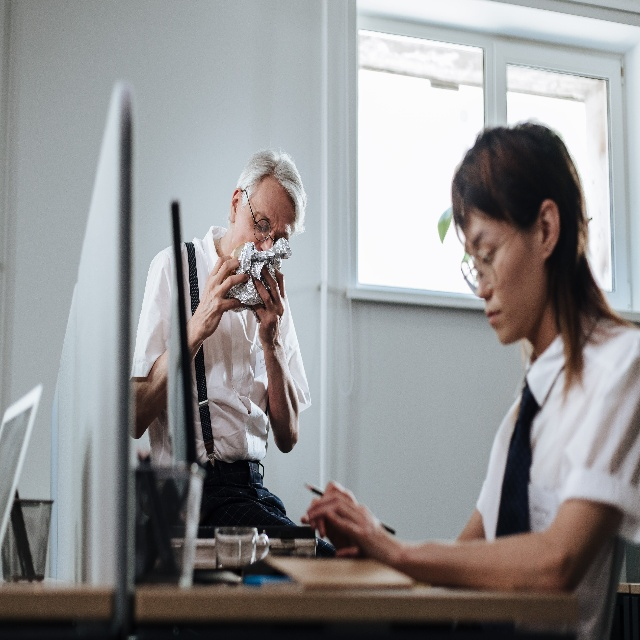Gafas: (460, 225, 521, 292), (241, 188, 279, 244)
Sin_guantes: (301, 488, 401, 565), (199, 255, 249, 339), (251, 263, 286, 347)
